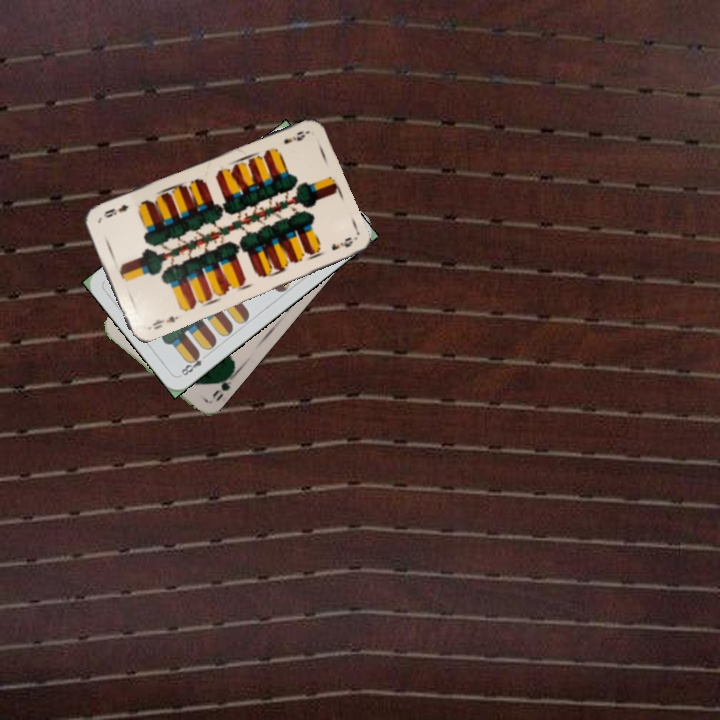E8: (176, 349, 211, 379)
E9: (148, 312, 181, 332), (280, 127, 310, 147)
GO: (208, 369, 238, 405)
